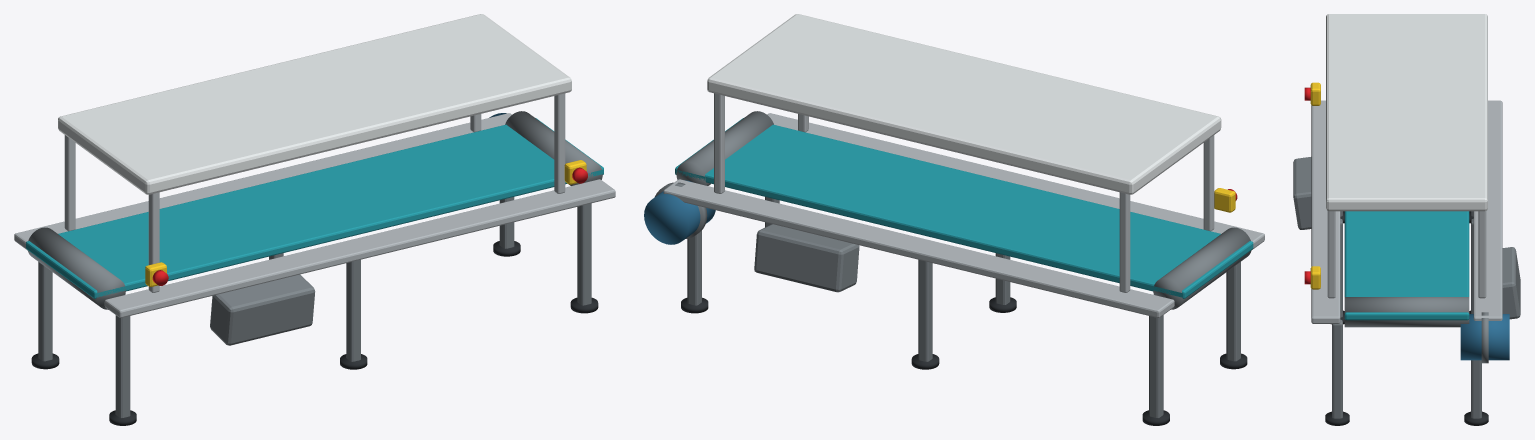
The model's file is inspection-conveyor.glb.
3 views of the same model, side by side, from view 1: azimuth 30°, elevation 25°; view 2: azimuth 150°, elevation 25°; view 3: azimuth 270°, elevation 25° (orthographic). The views are drawn at different scales.
Parts seen in each view (by area): view 1: light_canopy, belt_surface, operator_shelf, waste_chute, operator_shelf.001, roller_in, roller_out, leg_1, leg_5, leg_3, leg_2, light_post.002 (+2 smaller); view 2: light_canopy, belt_surface, operator_shelf.001, waste_chute.001, operator_shelf, roller_in, motor_body, roller_out, leg_2, leg_4, leg_1, light_post.001 (+3 smaller); view 3: light_canopy, belt_surface, operator_shelf.001, operator_shelf, roller_out, motor_body, waste_chute, waste_chute.001, leg_5, light_post.002, light_post.003, leg_6 (+7 smaller).
Boxes of the visible parts, x1,y1,x2,y2 form: light_canopy: (58, 14, 571, 194); belt_surface: (26, 118, 603, 298); operator_shelf: (104, 179, 615, 317); waste_chute: (210, 274, 315, 345); operator_shelf.001: (14, 113, 511, 250); roller_in: (27, 227, 125, 309); roller_out: (505, 111, 602, 185); leg_1: (115, 315, 130, 417); leg_5: (577, 203, 591, 305); leg_3: (346, 259, 360, 361); leg_2: (38, 262, 52, 361); light_post.002: (554, 93, 565, 193); light_canopy: (707, 14, 1221, 194); belt_surface: (675, 118, 1253, 298); operator_shelf.001: (663, 179, 1174, 317); waste_chute.001: (754, 224, 859, 292); operator_shelf: (767, 113, 1264, 249); roller_in: (1153, 227, 1251, 309); motor_body: (644, 180, 715, 244); roller_out: (676, 111, 773, 185); leg_2: (1149, 315, 1163, 417); leg_4: (918, 259, 932, 361); leg_1: (1226, 262, 1240, 361); light_post.001: (1119, 192, 1130, 292); light_canopy: (1326, 14, 1487, 211); belt_surface: (1344, 211, 1469, 320); operator_shelf.001: (1473, 100, 1502, 320); operator_shelf: (1311, 100, 1340, 323); roller_out: (1344, 297, 1469, 327); motor_body: (1460, 314, 1509, 360); waste_chute: (1293, 157, 1311, 229); waste_chute.001: (1502, 247, 1520, 319); leg_5: (1332, 319, 1342, 418); light_post.002: (1327, 211, 1335, 298); light_post.003: (1478, 211, 1486, 298); leg_6: (1471, 360, 1481, 418).
Bounding box in the file's own units: 3.73 × 1.63 × 1.57.
